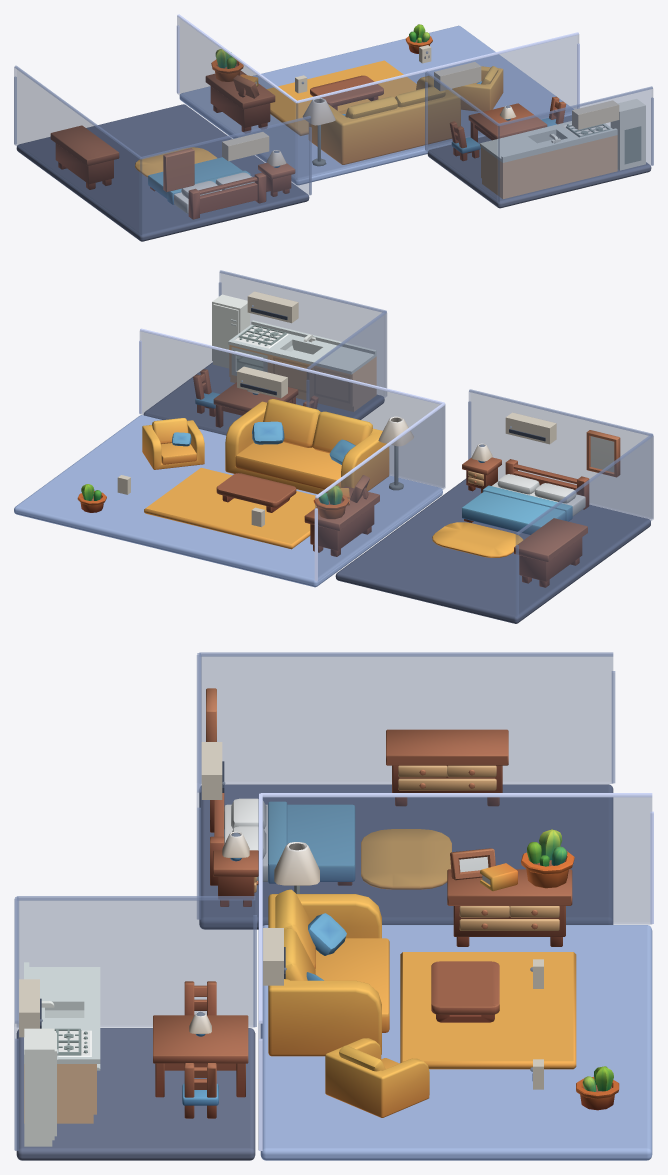
Rendered from smart-home-layout-2026-10-12.glb.
The picture shows the model from 3 angles, top to bottom: view 1: azimuth 30°, elevation 25°; view 2: azimuth 150°, elevation 25°; view 3: azimuth 270°, elevation 25°; orthographic projection. The views are drawn at different scales.
Visible parts, largest first — view 1: living_room_back_wall, bedroom_back_wall, bedroom_floor, living_room_floor, kitchen_back_wall, bedroom_side_wall, living_room_side_wall, couch_pillows, kitchen_side_wall, bed_double_A, cabinet_medium_decorated, rug_rectangle_A (+25 smaller); view 2: living_room_floor, bedroom_floor, living_room_back_wall, bedroom_side_wall, couch_pillows, living_room_side_wall, bedroom_back_wall, rug_rectangle_A, bed_double_A, kitchen_back_wall, kitchen_side_wall, cabinet_medium_decorated (+25 smaller); view 3: living_room_floor, bedroom_side_wall, living_room_side_wall, bedroom_floor, kitchen_side_wall, kitchen_floor, couch_pillows, rug_rectangle_A, cabinet_medium_decorated, bed_double_A, cabinet_medium, armchair_pillows (+17 smaller).
Part boxes in pixels (<box>): living_room_back_wall: <box>296,34,578,179</box>; bedroom_back_wall: <box>140,118,310,236</box>; bedroom_floor: <box>16,104,309,241</box>; living_room_floor: <box>179,25,573,185</box>; kitchen_back_wall: <box>498,88,652,202</box>; bedroom_side_wall: <box>14,67,141,235</box>; living_room_side_wall: <box>177,16,297,179</box>; couch_pillows: <box>309,76,460,164</box>; kitchen_side_wall: <box>425,73,499,202</box>; bed_double_A: <box>148,157,266,219</box>; cabinet_medium_decorated: <box>205,49,275,132</box>; rug_rectangle_A: <box>267,60,416,135</box>; living_room_floor: <box>14,415,442,587</box>; bedroom_floor: <box>335,478,650,623</box>; living_room_back_wall: <box>140,331,444,487</box>; bedroom_side_wall: <box>516,436,653,617</box>; couch_pillows: <box>225,399,389,494</box>; living_room_side_wall: <box>315,405,445,580</box>; bedroom_back_wall: <box>469,391,652,518</box>; rug_rectangle_A: <box>144,467,316,549</box>; bed_double_A: <box>462,459,589,534</box>; kitchen_back_wall: <box>219,272,386,387</box>; kitchen_side_wall: <box>307,313,386,418</box>; cabinet_medium_decorated: <box>304,475,379,556</box>; living_room_floor: <box>260,925,652,1160</box>; bedroom_side_wall: <box>201,655,612,783</box>; living_room_side_wall: <box>263,797,651,924</box>; bedroom_floor: <box>199,784,613,929</box>; kitchen_side_wall: <box>17,899,254,1027</box>; kitchen_floor: <box>16,1028,255,1160</box>; couch_pillows: <box>268,889,389,1056</box>; rug_rectangle_A: <box>400,952,576,1069</box>; cabinet_medium_decorated: <box>447,829,574,946</box>; bed_double_A: <box>210,793,355,885</box>; cabinet_medium: <box>386,729,508,806</box>; armchair_pillows: <box>325,1038,429,1117</box>.
Size of the model in its own units: 9.6 by 1.72 by 7.03.
Materials: 60 (15 with a texture image).
